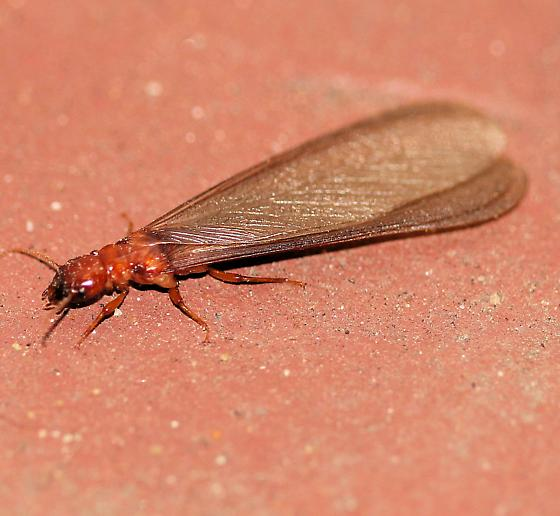flying termite: (11, 87, 543, 372)
